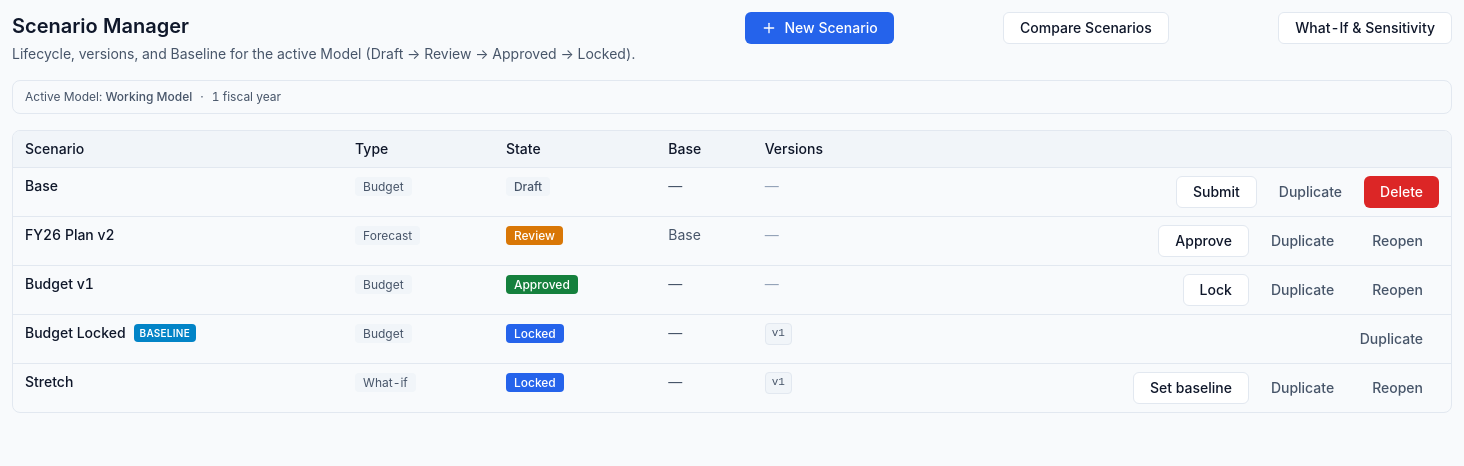
it: S-050 Scenario Manager (F-022) › submits a Draft immediately and reports the transition
What coordinates should you click on to do the following:
click the button "Submit"
I would click on:
 (1216, 192)
Its box is [1176,176,1257,208].
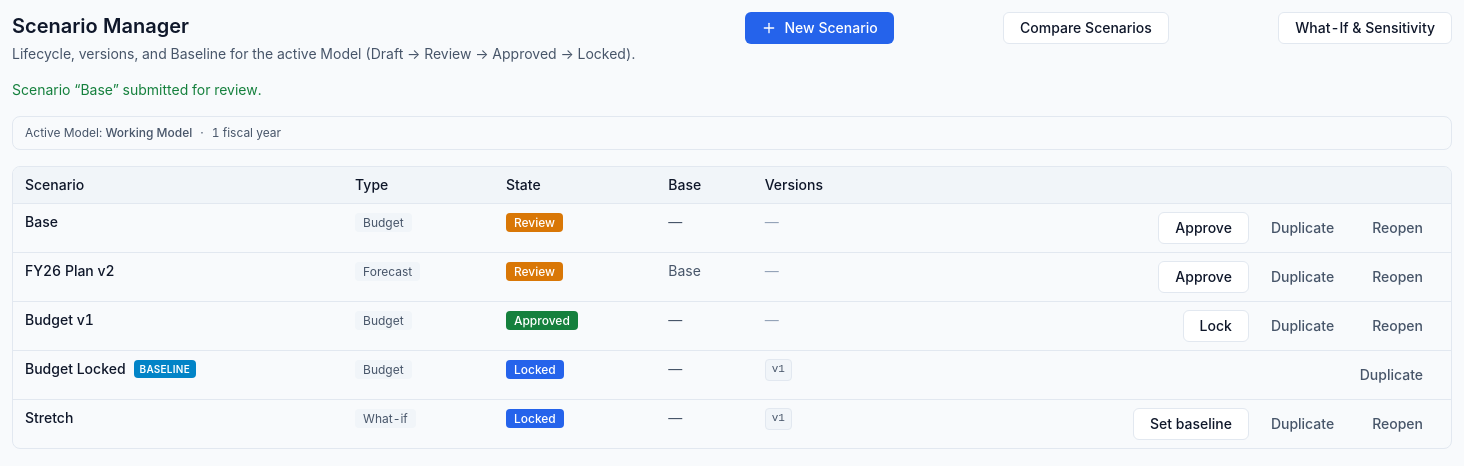
Expected: the text "Scenario “Base” submitted for review." is shown, [12,81,262,98]
Expected: the 1st text "Review" is shown, [506,213,563,232]
